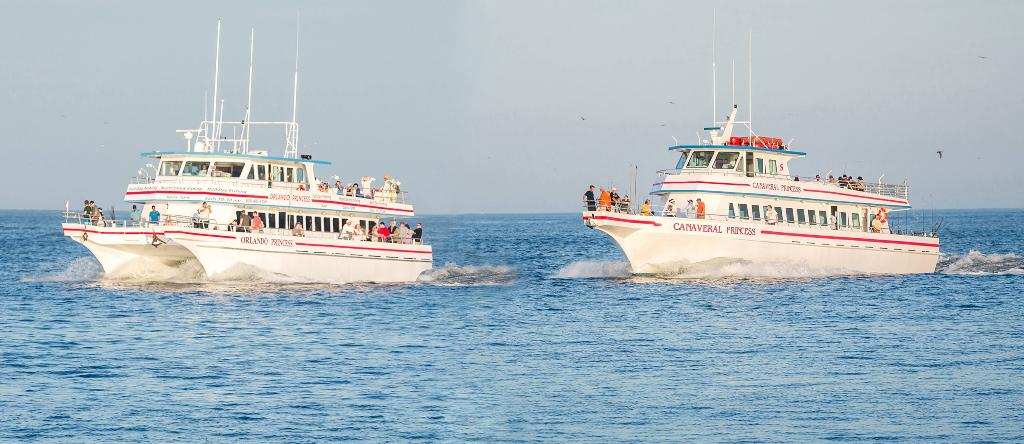PassengerShip: (53, 85, 447, 292), (558, 98, 952, 290)
